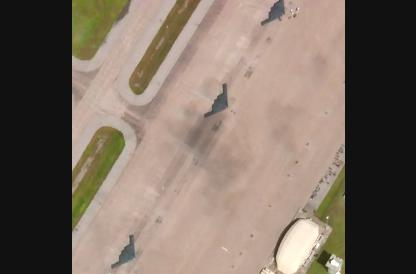B1: (203, 82, 227, 117), (111, 232, 135, 266), (260, 0, 284, 27)
